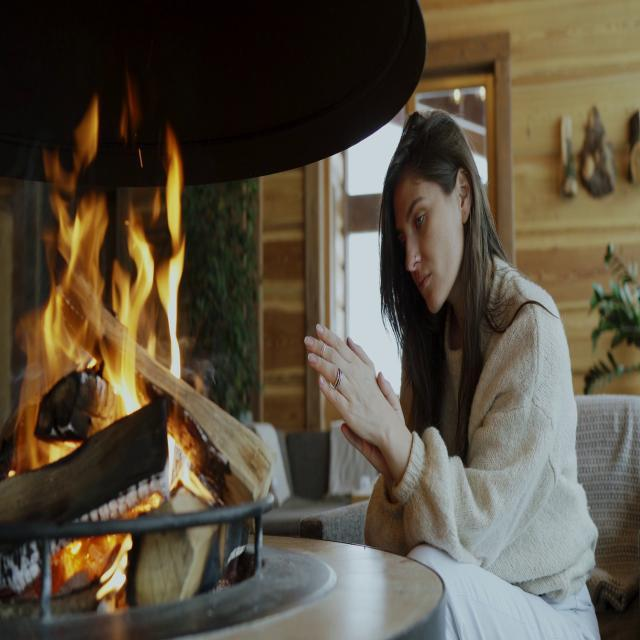Fire: (0, 100, 206, 590)
